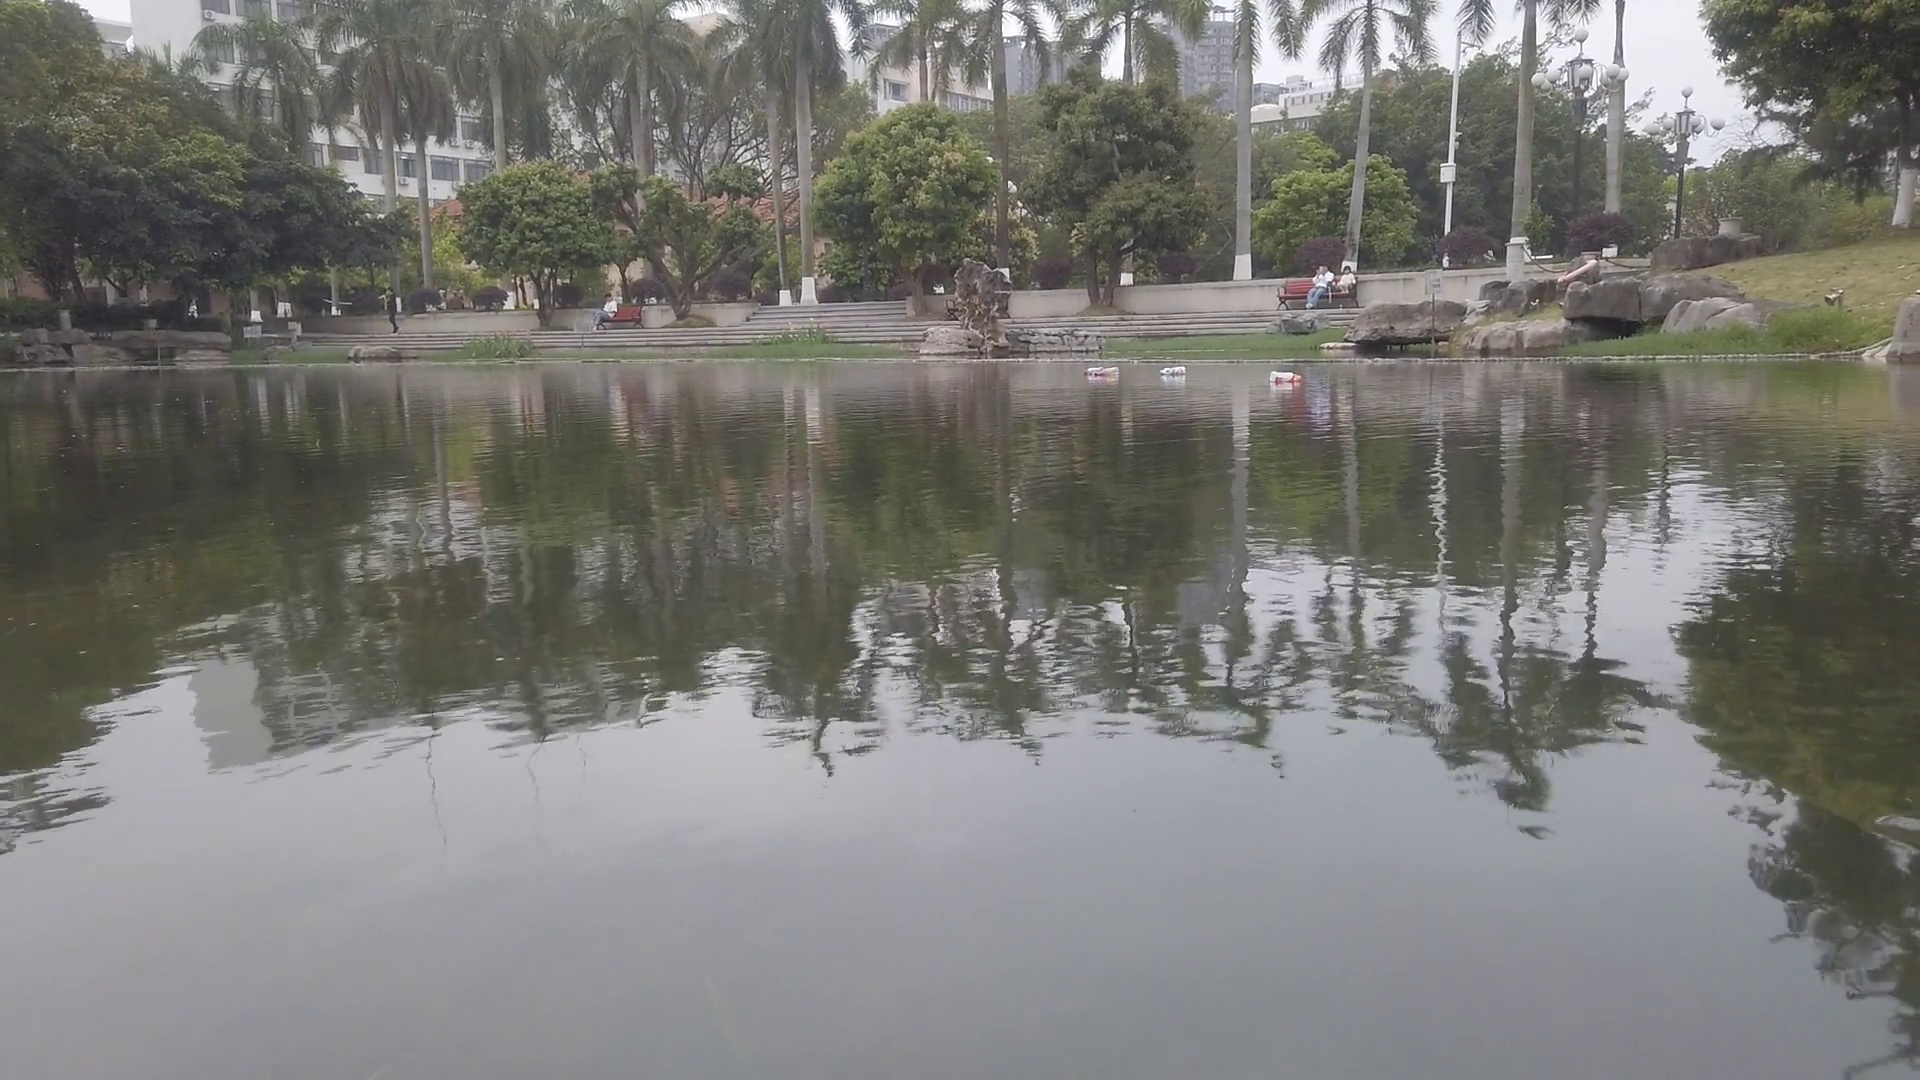bottle: (1271, 371, 1305, 382), (1084, 367, 1108, 377), (1096, 368, 1120, 378), (1160, 367, 1185, 375)
